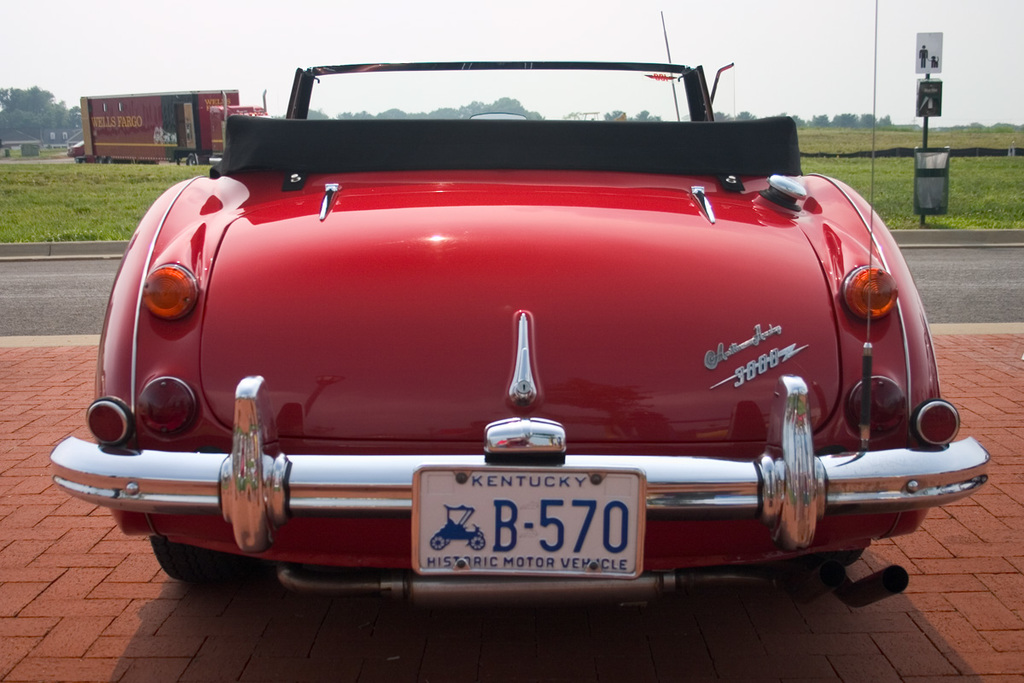Car: (48, 1, 991, 601)
